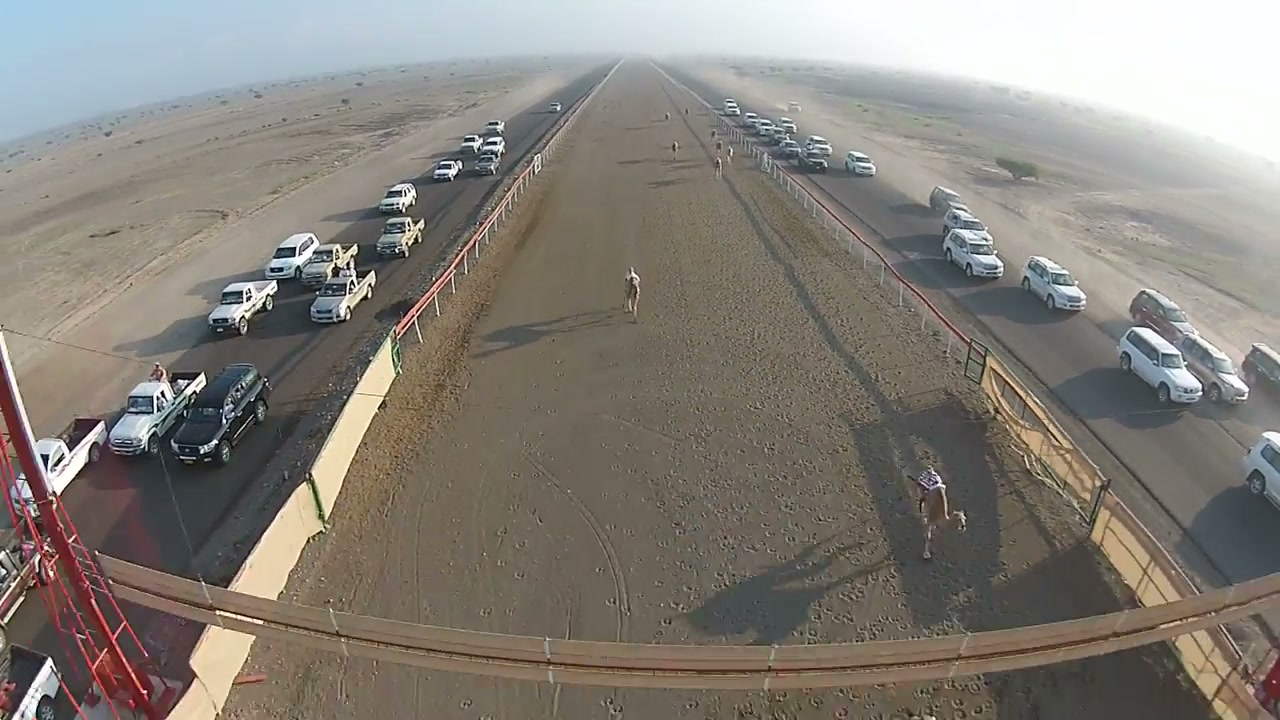animal_foot_print: (629, 211, 886, 628), (722, 600, 999, 719), (448, 498, 549, 718), (593, 542, 688, 719)
